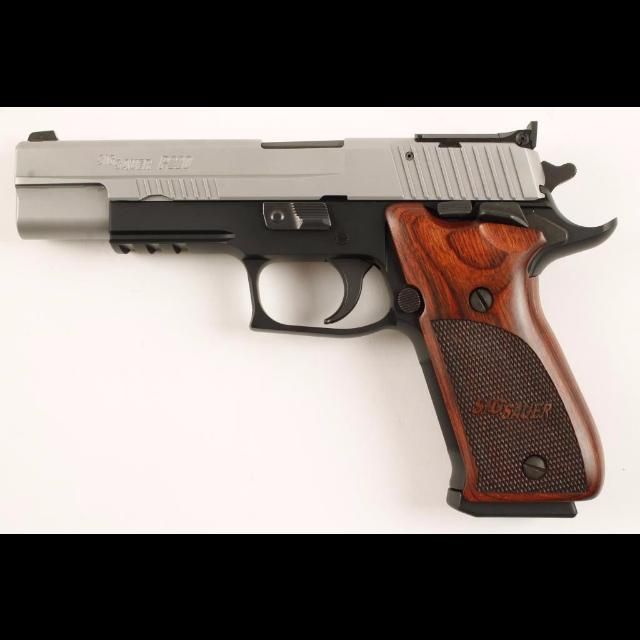handgun: (11, 114, 621, 520)
